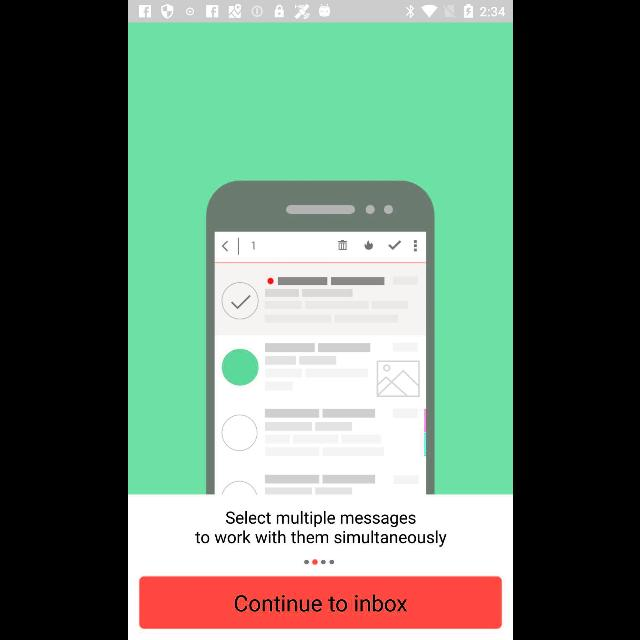image: (206, 180, 434, 494)
pageindicator: (302, 559, 334, 565)
text: (195, 510, 447, 548)
textbutton: (139, 577, 501, 629)
uppertaskbar: (128, 1, 512, 23)
